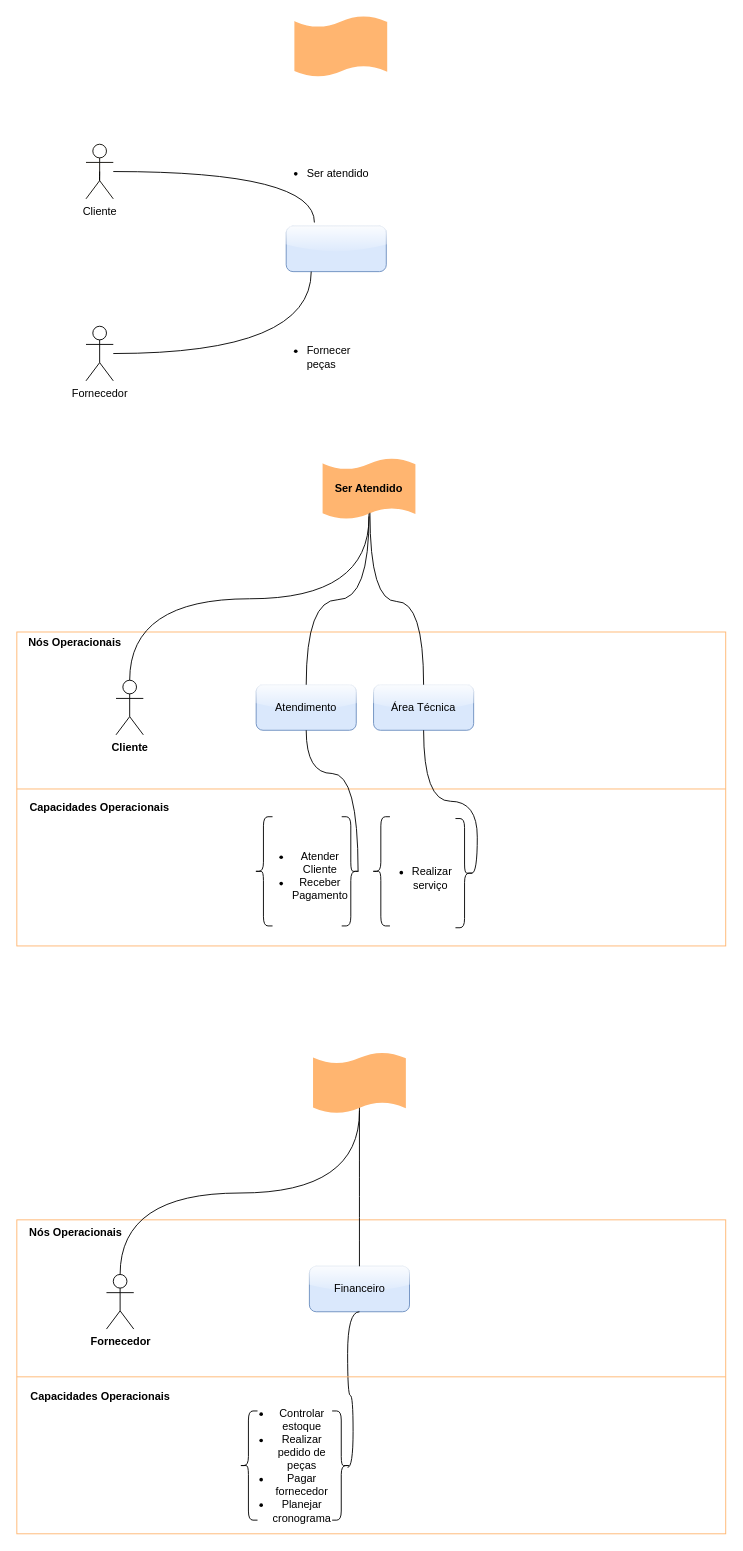
Some shapes in this 743 by 1551 pixel diagram are drawn without their labels. The centre of each missing label's shape, as x and y in pixels:
Bicicletaria: point 335,248
Contexto Bicicletaria: point 340,45
Suprir negócio: point 359,1082
